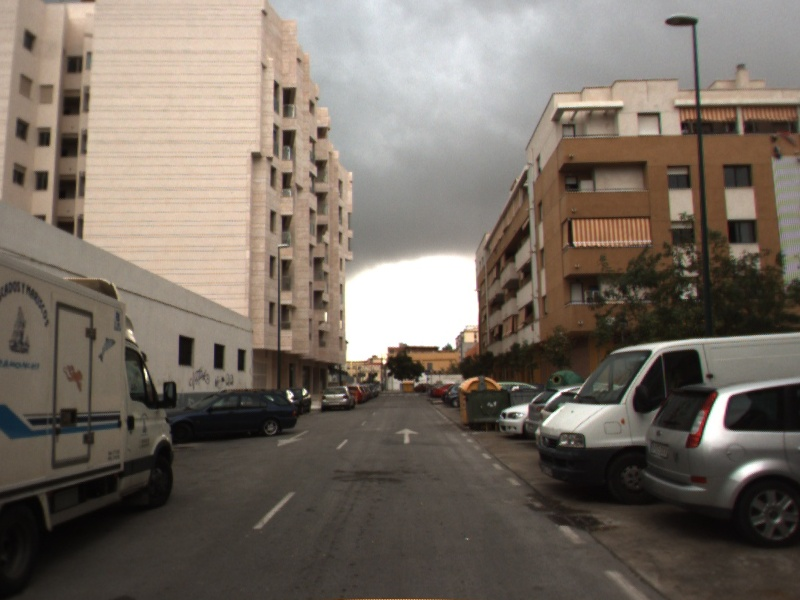STRAIGHT: (393, 425, 423, 446)
